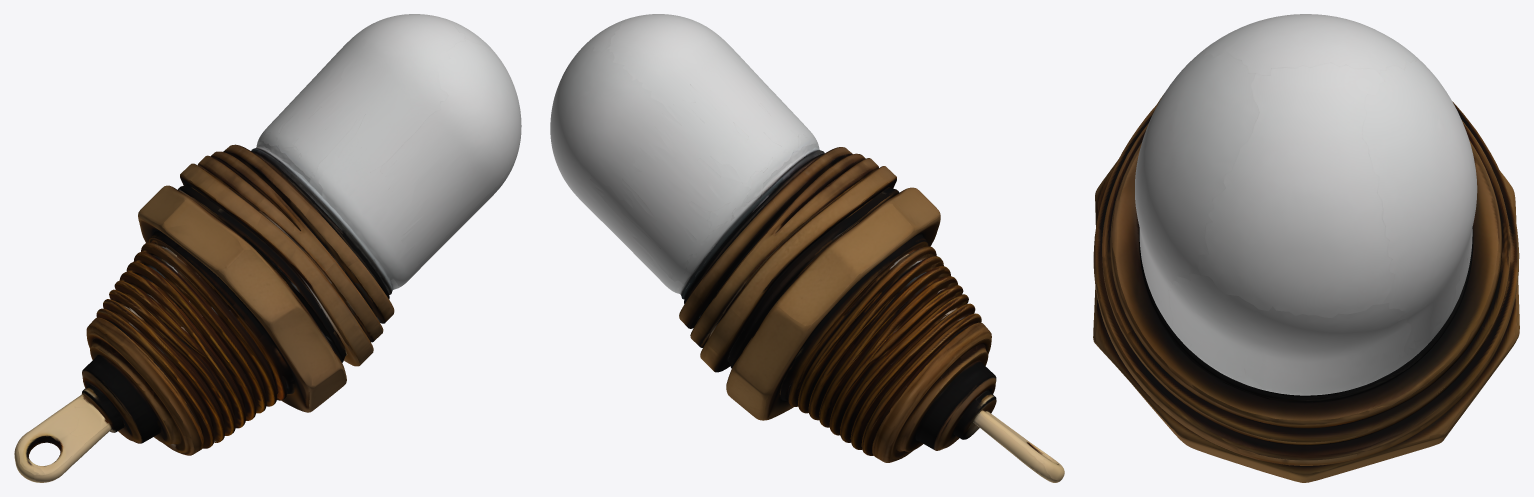
The model's file is light.glb.
3 renders of one model, left to right at view 1: azimuth 30°, elevation 25°; view 2: azimuth 150°, elevation 25°; view 3: azimuth 270°, elevation 25°, orthographic. The views are drawn at different scales.
Parts seen in each view (by area): view 1: texture_pbr_v128; view 2: texture_pbr_v128; view 3: texture_pbr_v128.
Part boxes in pixels (bbox=[...]): texture_pbr_v128: bbox=[14, 14, 521, 482]; texture_pbr_v128: bbox=[550, 14, 1064, 482]; texture_pbr_v128: bbox=[1093, 14, 1519, 482].
Bounding box in the file's own units: 1 × 0.7159 × 0.4688.
1 material, 1 textured.
